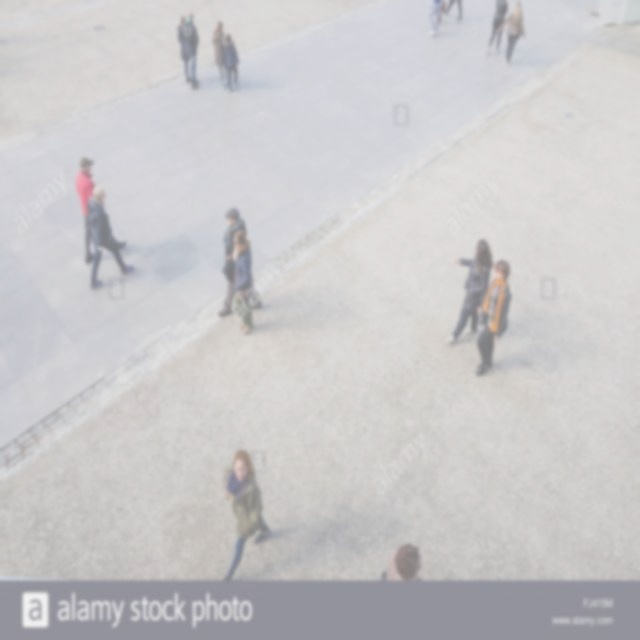pessoa: (220, 448, 272, 580), (74, 155, 128, 266), (443, 235, 495, 348), (85, 182, 135, 289), (472, 257, 514, 378), (216, 208, 262, 318), (225, 228, 255, 336), (497, 0, 526, 70), (380, 542, 423, 581), (180, 10, 200, 90), (212, 19, 230, 91), (486, 0, 508, 57), (176, 15, 192, 84), (221, 32, 239, 93), (428, 0, 443, 37), (441, 0, 464, 23)
